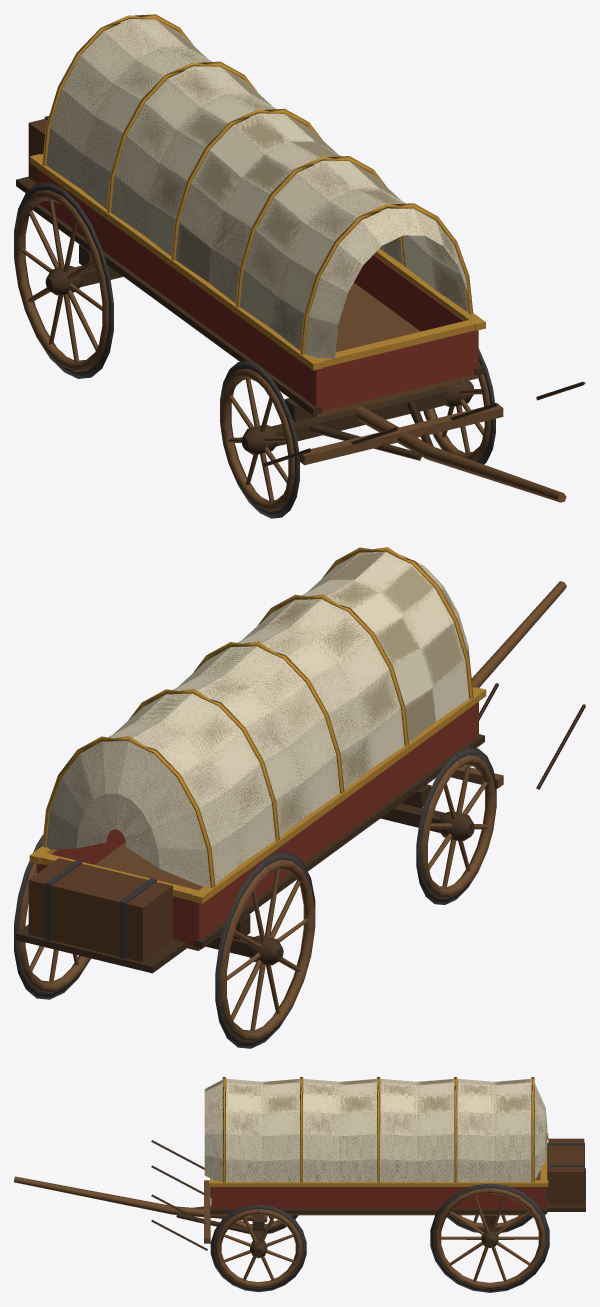
Rendered from vehicle_wagon.glb.
3 renders of one model, top to bottom at view 1: azimuth 30°, elevation 25°; view 2: azimuth 150°, elevation 25°; view 3: azimuth 270°, elevation 25°, orthographic. The views are drawn at different scales.
Visible parts, largest first — view 1: body, fore, wheel_BR, wheel_FR, wheel_FL; view 2: body, wheel_BR, wheel_FR, fore, wheel_BL; view 3: body, wheel_BL, wheel_FL, fore, wheel_BR, wheel_FR.
Boxes of the visible parts, x1=… form: body: x1=16, y1=14, x2=485, y2=417; fore: x1=263, y1=381, x2=585, y2=502; wheel_BR: x1=14, y1=182, x2=113, y2=378; wheel_FR: x1=220, y1=361, x2=299, y2=518; wheel_FL: x1=423, y1=348, x2=495, y2=464; body: x1=16, y1=547, x2=486, y2=973; wheel_BR: x1=215, y1=852, x2=315, y2=1048; wheel_FR: x1=416, y1=747, x2=496, y2=904; fore: x1=380, y1=581, x2=585, y2=832; wheel_BL: x1=14, y1=834, x2=90, y2=999; body: x1=204, y1=1077, x2=585, y2=1229; wheel_BL: x1=430, y1=1183, x2=549, y2=1292; wheel_FL: x1=210, y1=1204, x2=306, y2=1292; fore: x1=14, y1=1140, x2=267, y2=1250; wheel_BR: x1=447, y1=1215, x2=532, y2=1232; wheel_FR: x1=210, y1=1187, x2=298, y2=1233.
Size of the model in its own units: 2.22 by 2.36 by 6.68.
